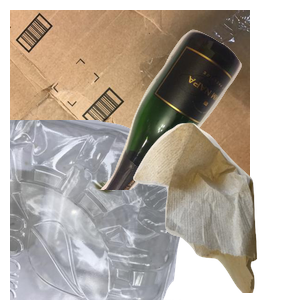cardboard: (10, 10, 250, 190)
glass: (87, 27, 300, 207)
plastic: (10, 120, 197, 300)
trash: (131, 120, 300, 300)
